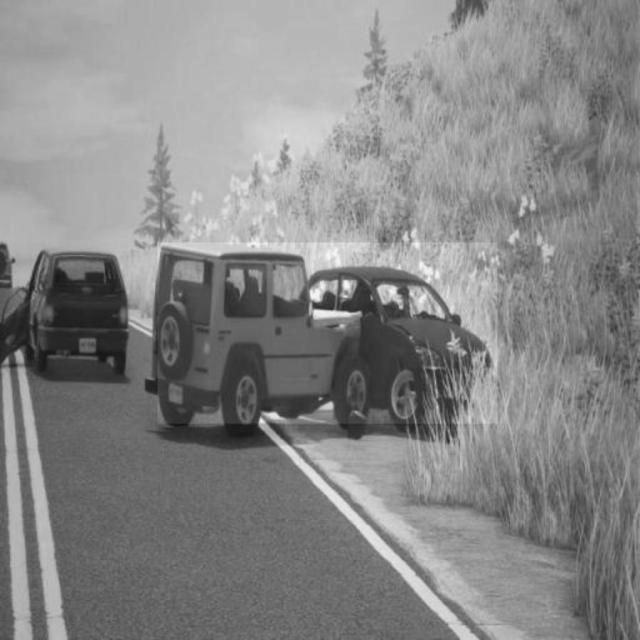accident: (158, 243, 498, 423)
vehicle: (29, 243, 132, 371)
